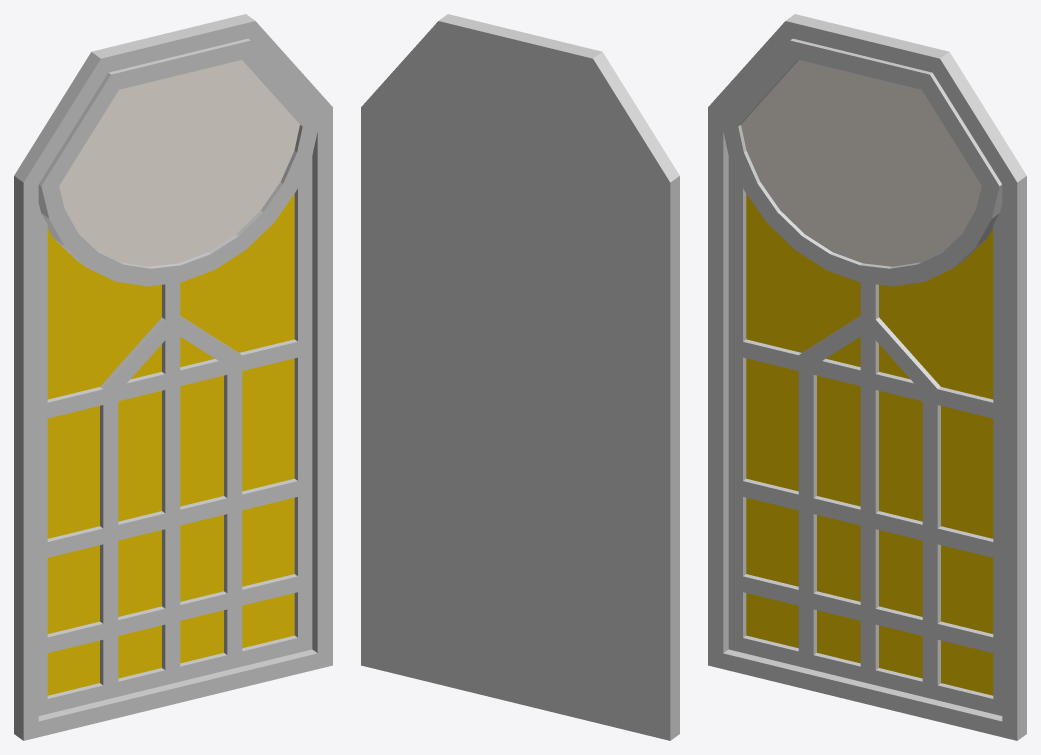
File: Prop_Gothic_Decoration_Window_01.FBX
3 views of the same model, side by side, from view 1: azimuth 30°, elevation 25°; view 2: azimuth 150°, elevation 25°; view 3: azimuth 330°, elevation 25° (orthographic).
Parts seen in each view (by area): view 1: Prop_Gothic_Decoration_Window_01; view 2: Prop_Gothic_Decoration_Window_01; view 3: Prop_Gothic_Decoration_Window_01.
Boxes of the visible parts, x1,y1,x2,y2 form: Prop_Gothic_Decoration_Window_01: (14, 14, 332, 740); Prop_Gothic_Decoration_Window_01: (361, 14, 679, 740); Prop_Gothic_Decoration_Window_01: (708, 14, 1026, 740).
Size of the model in its own units: 1670 by 3424 by 114.
